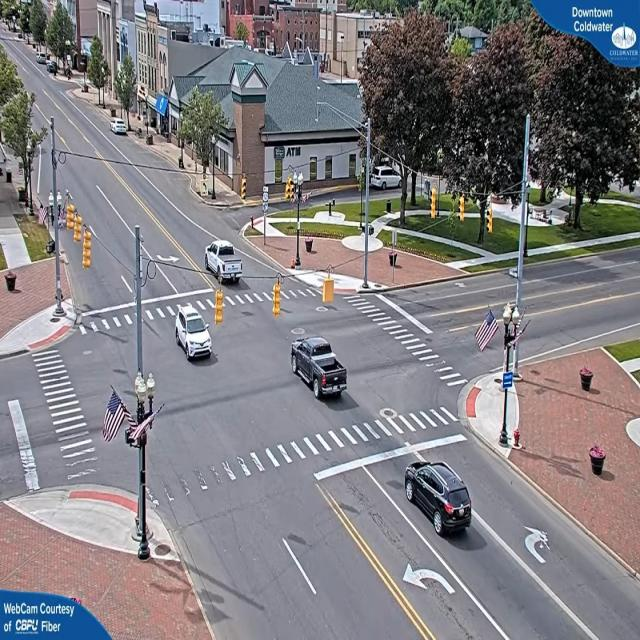car: (404, 462, 474, 537), (290, 338, 347, 403), (174, 304, 215, 361), (206, 240, 243, 283), (111, 120, 129, 136)
